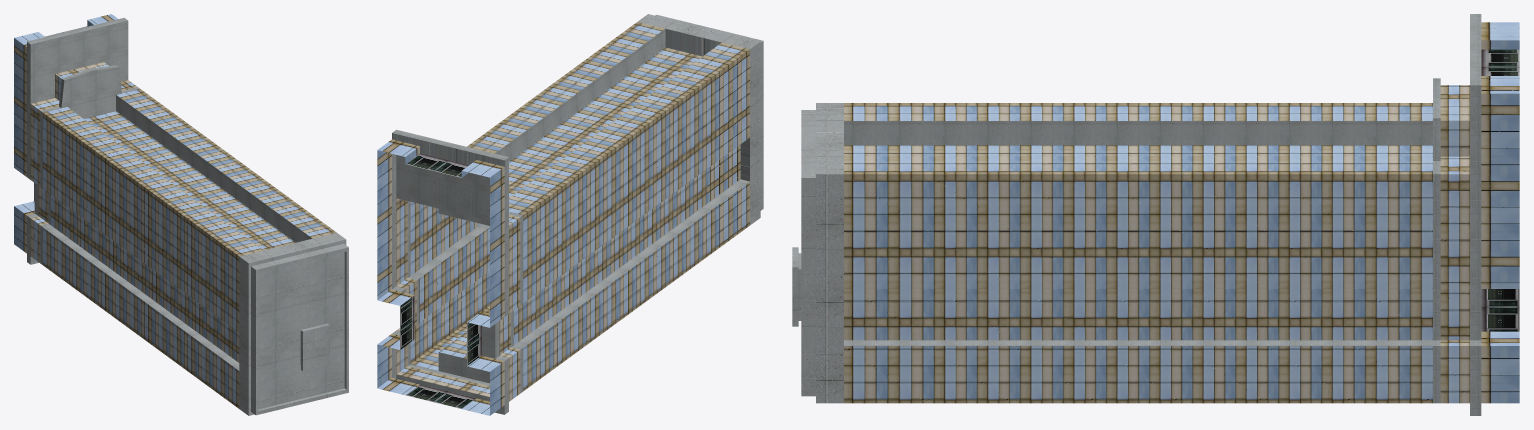
File: skyscraper_windowA_04.obj
3 renders of one model, left to right at view 1: azimuth 30°, elevation 25°; view 2: azimuth 150°, elevation 25°; view 3: azimuth 270°, elevation 25°, orthographic. The views are drawn at different scales.
Parts seen in each view (by area): view 1: Object71; view 2: Object71; view 3: Object71.
Boxes of the visible parts, x1,y1,x2,y2 form: Object71: [14, 14, 348, 415]; Object71: [377, 14, 763, 415]; Object71: [792, 14, 1519, 415].
Bounding box in the file's own units: 31.37 × 67.76 × 135.
Materials: 3 (3 with a texture image).
